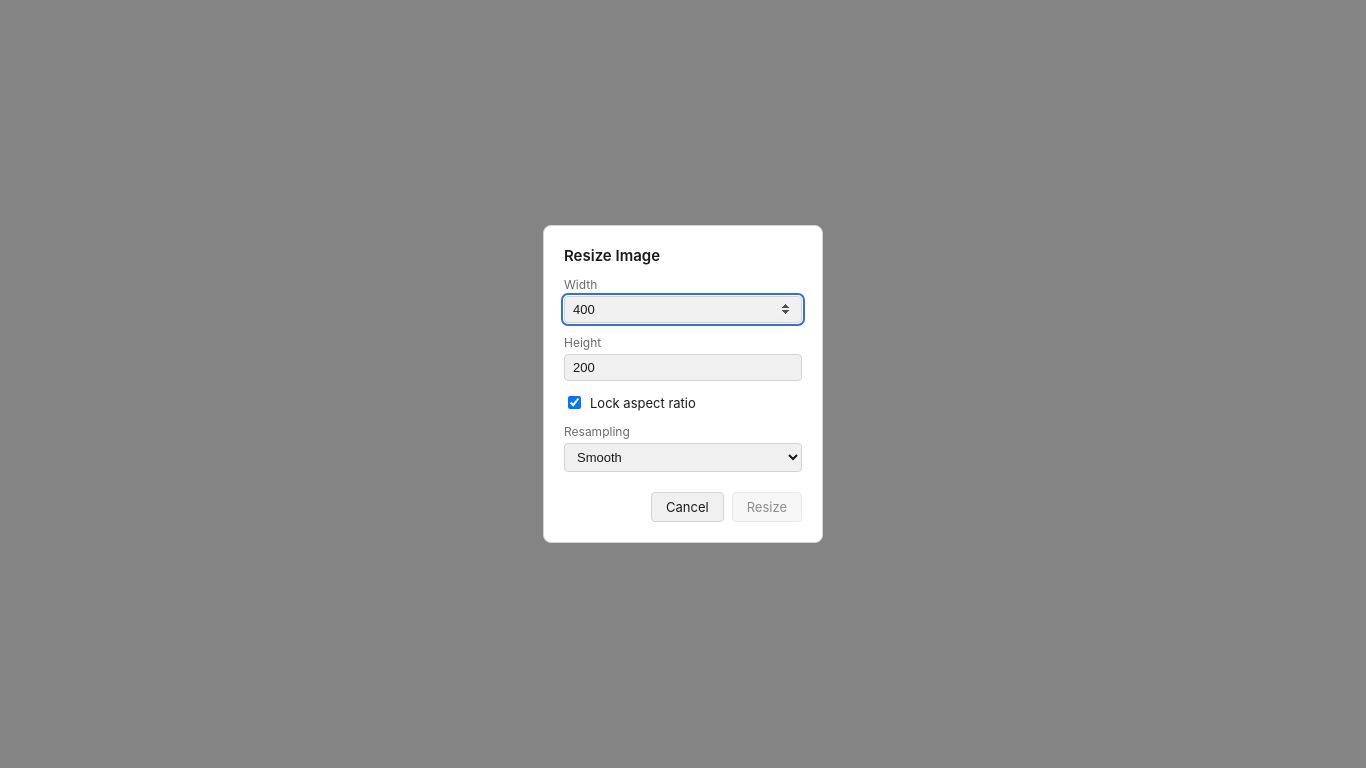
it: ResizeDialog › rejects an invalid dimension: the Resize button is disabled and an error is shown
Click the checkbox labelled "Lock aspect ratio": x=574, y=402 [568,396,581,409]
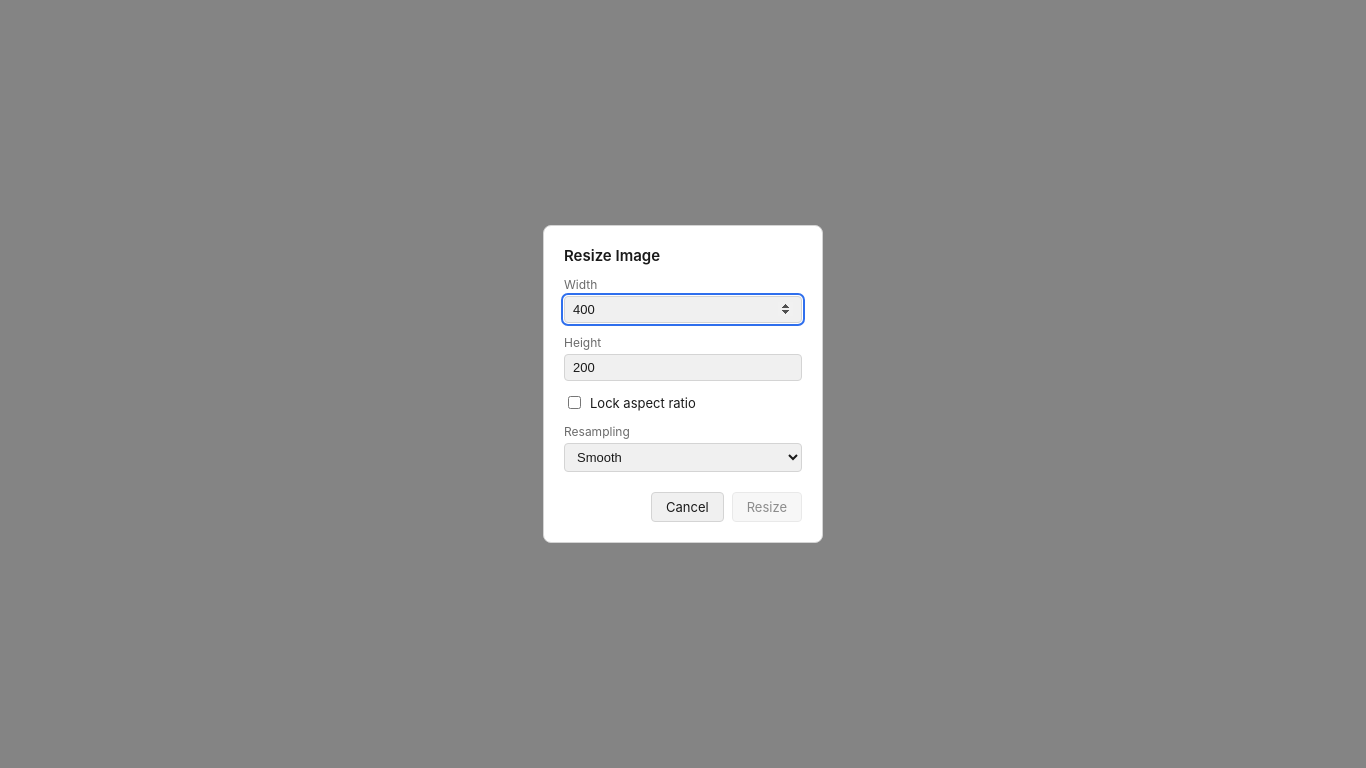
Replace the text in the number field labelled "Width" with "0": x=683, y=310 [564,296,802,323]
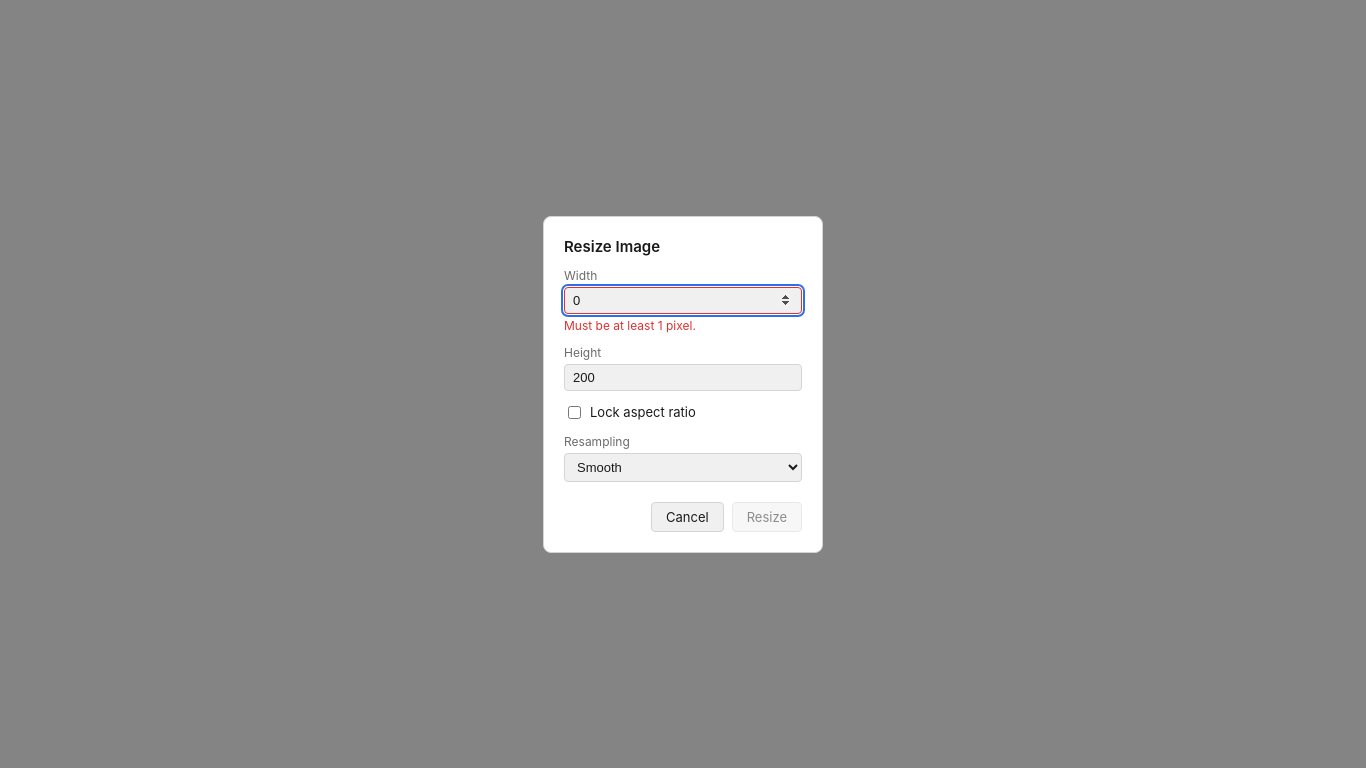
Check: the button "Resize" is disabled, box [732,502,802,532]
Check: the message shows "at least 1 pixel", box [564,318,696,332]
